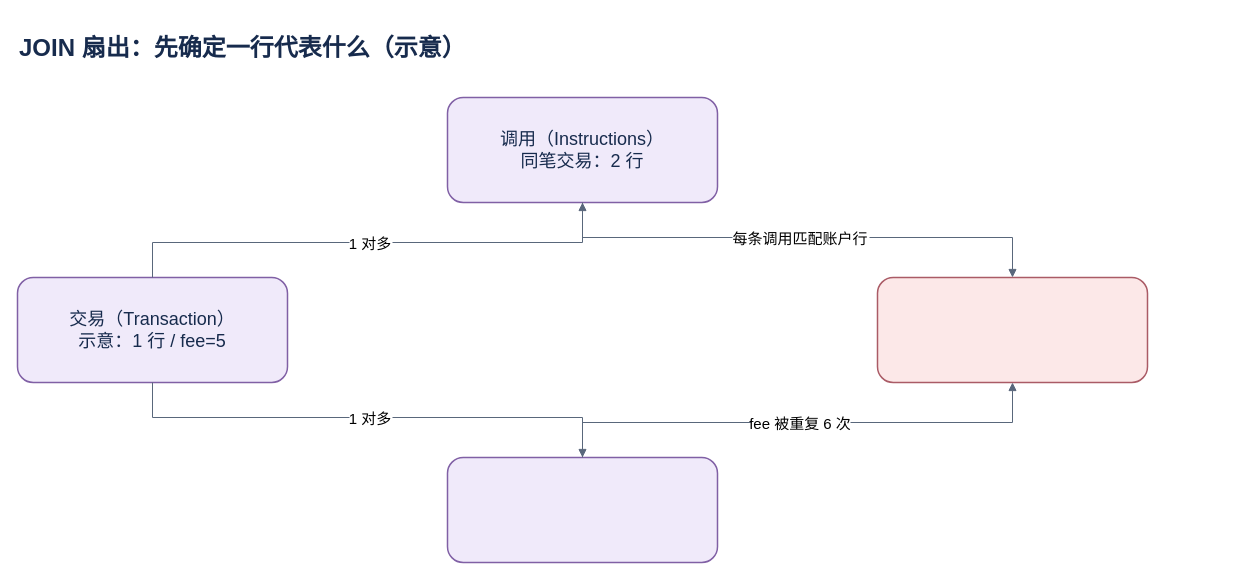
This 1235x580 diagram has some shape labels left out. The shapes that lost their labels are listed below. From the top down, each one's box as (x1, y1, x2, y2) in pixels, then its label:
(876, 276, 1148, 383): 只按 tx_id 同时 JOIN 结果 2 × 3 = 6 行
(446, 456, 718, 563): 账户活动（Account Activity） 同笔交易：3 行
